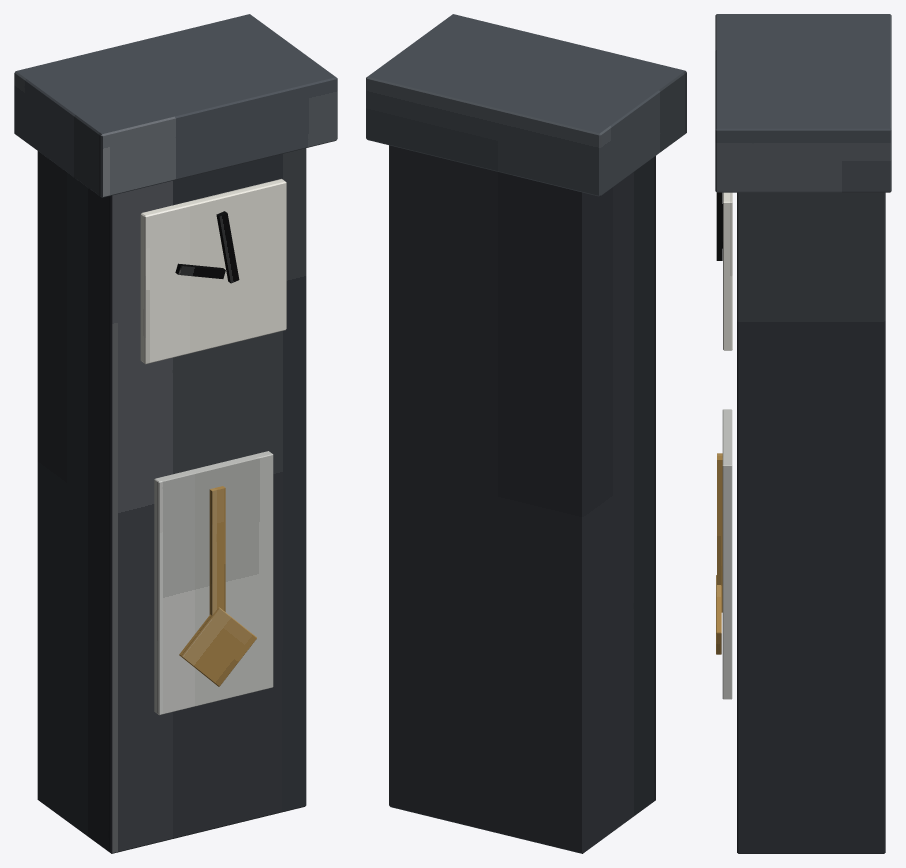
The model's file is mansion_grandfather_clock.glb.
3 views of the same model, side by side, from view 1: azimuth 30°, elevation 25°; view 2: azimuth 150°, elevation 25°; view 3: azimuth 270°, elevation 25° (orthographic).
Visible parts, largest first — view 1: ClockCase, ClockCrown, PendulumWindow, ClockFace, PendulumBob, PendulumRod, MinuteHand; view 2: ClockCase, ClockCrown; view 3: ClockCase, ClockCrown, PendulumWindow, ClockFace, PendulumRod, MinuteHand, PendulumBob.
Part boxes in pixels (x1,y1,x2,y2): ClockCase: [37, 148, 306, 853]; ClockCrown: [14, 14, 337, 197]; PendulumWindow: [154, 451, 273, 715]; ClockFace: [140, 179, 286, 364]; PendulumBob: [179, 607, 256, 686]; PendulumRod: [209, 486, 225, 615]; MinuteHand: [216, 211, 239, 283]; ClockCase: [389, 145, 655, 853]; ClockCrown: [366, 14, 686, 196]; ClockCase: [737, 192, 885, 853]; ClockCrown: [715, 14, 891, 192]; PendulumWindow: [722, 409, 732, 699]; ClockFace: [723, 192, 732, 350]; PendulumRod: [717, 453, 722, 612]; MinuteHand: [716, 192, 722, 260]; PendulumBob: [716, 575, 721, 654].
Size of the model in its own units: 0.7 by 2.07 by 0.45.
1 material, 1 textured.
